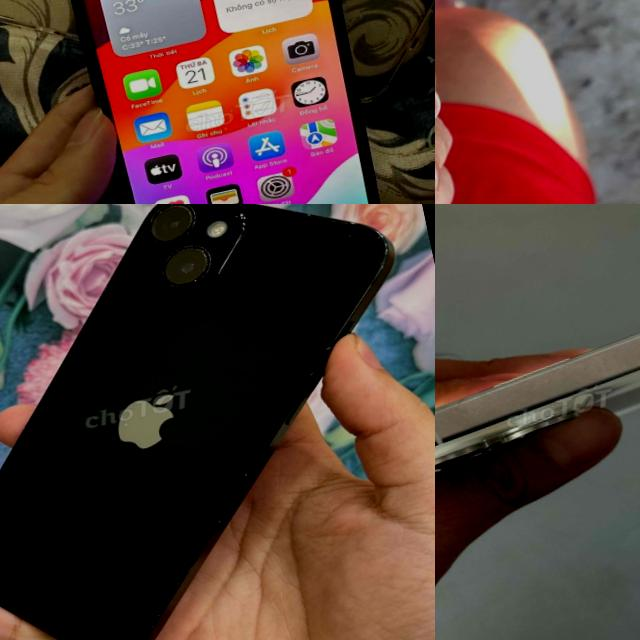gen_11: (435, 0, 497, 204)
gen_12_13: (45, 0, 419, 204)
gen_14: (0, 204, 435, 640)
gen_15: (435, 299, 640, 521)
scratch: (542, 375, 550, 382)
